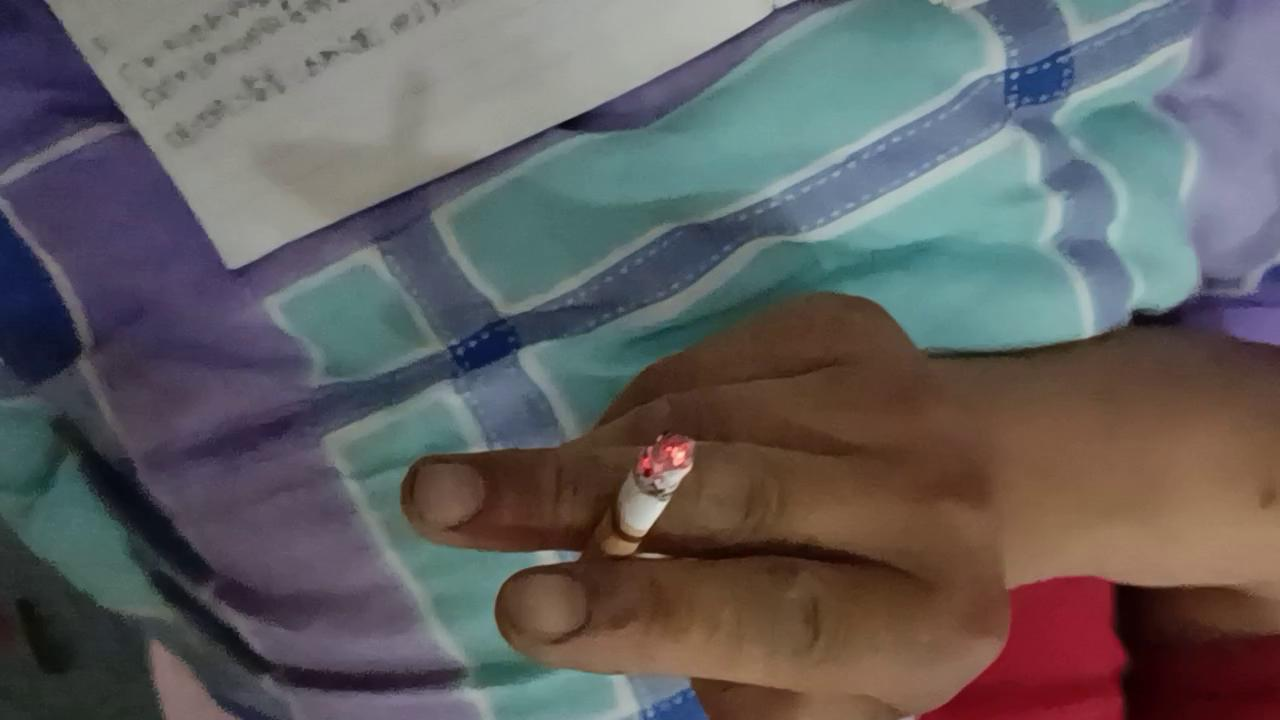smoke: (567, 428, 696, 603)
